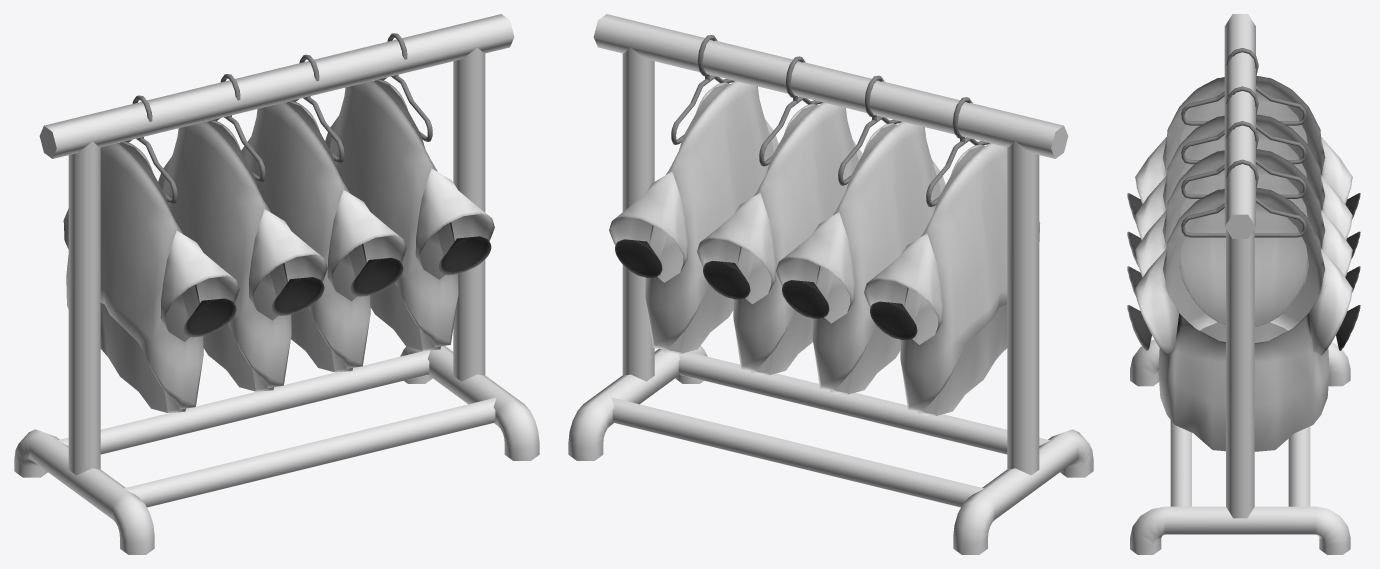
Rendered from Pfb_CoatHanger_06_JLAB__2.fbx.
3 renders of one model, left to right at view 1: azimuth 30°, elevation 25°; view 2: azimuth 150°, elevation 25°; view 3: azimuth 270°, elevation 25°, orthographic. The views are drawn at different scales.
Parts seen in each view (by area): view 1: MAT_JLAB_ProtectiveClothes_Yellow, MAT_Coathanger_Dark_M, MAT_Coathanger_Green; view 2: MAT_JLAB_ProtectiveClothes_Yellow, MAT_Coathanger_Dark_M, MAT_Coathanger_Green; view 3: MAT_JLAB_ProtectiveClothes_Yellow, MAT_Coathanger_Dark_M, MAT_Coathanger_Green.
Part boxes in pixels (x1,y1,x2,y2): MAT_JLAB_ProtectiveClothes_Yellow: (63,79,494,412); MAT_Coathanger_Dark_M: (14,14,539,554); MAT_Coathanger_Green: (125,33,432,203); MAT_JLAB_ProtectiveClothes_Yellow: (609,81,1040,415); MAT_Coathanger_Dark_M: (568,14,1093,554); MAT_Coathanger_Green: (671,35,989,206); MAT_JLAB_ProtectiveClothes_Yellow: (1127,75,1360,451); MAT_Coathanger_Dark_M: (1130,14,1350,554); MAT_Coathanger_Green: (1181,48,1306,237).
Size of the model in its own units: 1.61 by 1.34 by 0.8272.
3 materials, 3 textured.
